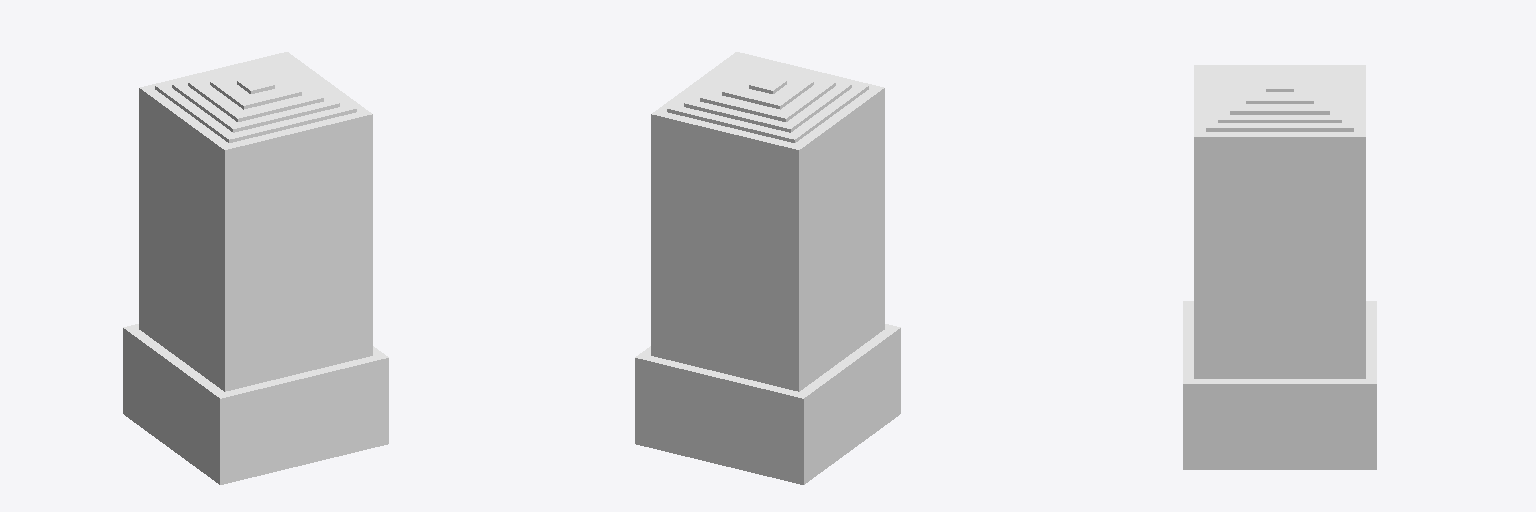
Rendered from SingleWall.obj.
3 renders of one model, left to right at view 1: azimuth 30°, elevation 25°; view 2: azimuth 150°, elevation 25°; view 3: azimuth 270°, elevation 25°, orthographic.
Visible parts, largest first — view 1: object 1; view 2: object 1; view 3: object 1.
Boxes of the visible parts, x1,y1,x2,y2 form: object 1: [123, 52, 388, 484]; object 1: [635, 52, 900, 484]; object 1: [1183, 65, 1376, 469].
Size of the model in its own units: 4.9 by 9.6 by 4.9.